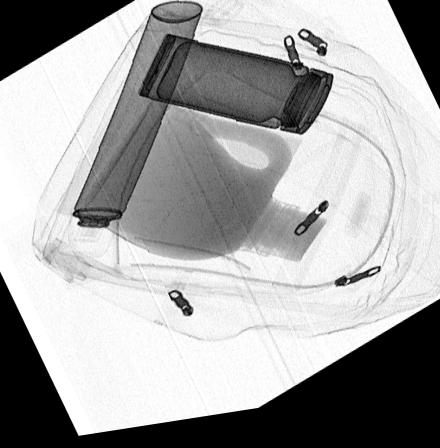Sprayer: (56, 7, 203, 262)
